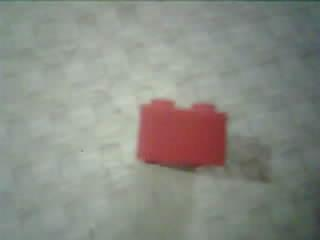lego: (134, 98, 228, 171)
